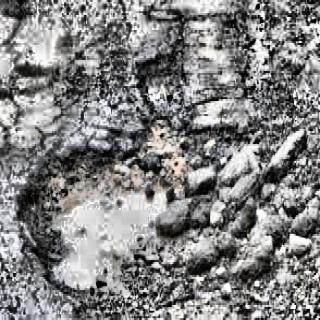alligator-crack: (0, 2, 130, 147)
pothole: (17, 139, 171, 300), (135, 28, 197, 138)
